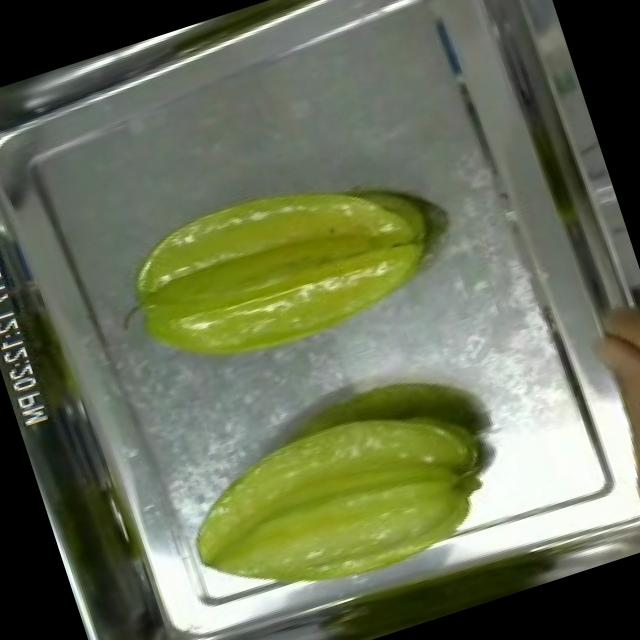fruit: (98, 128, 470, 404), (162, 370, 519, 636), (561, 297, 640, 554)
